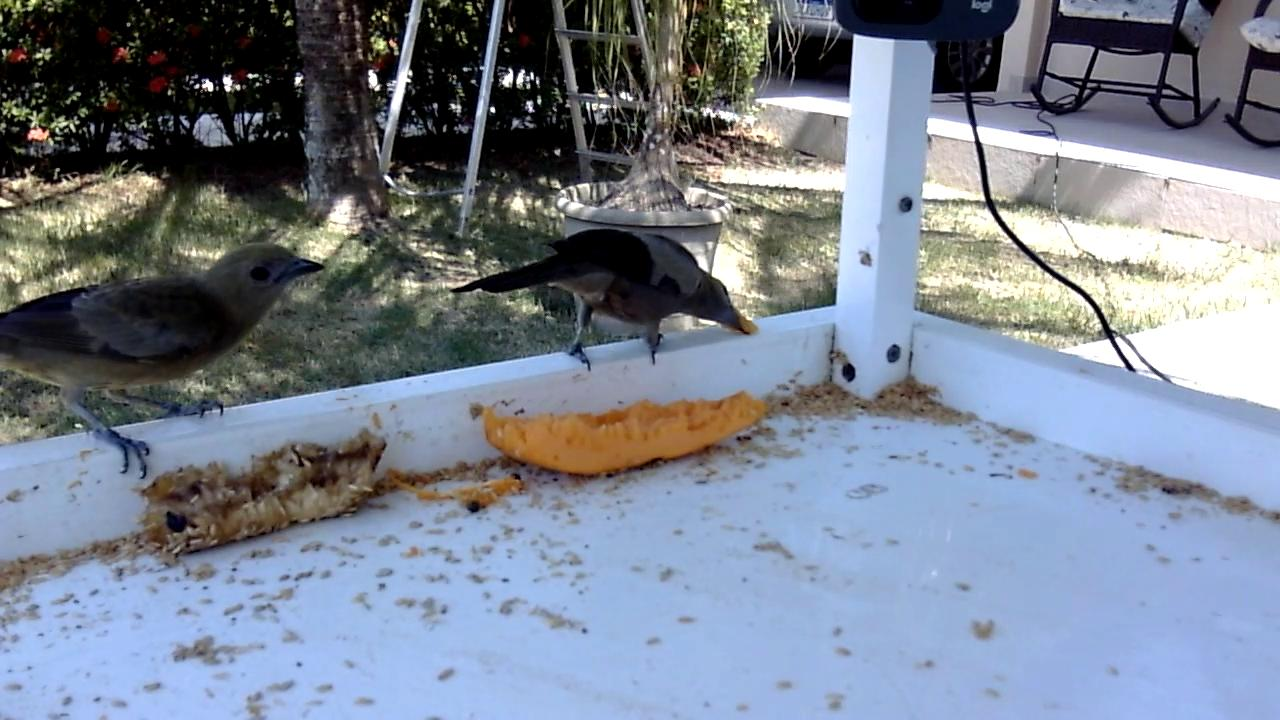sanhaco_do_coqueiro: (1, 240, 329, 484), (448, 225, 752, 378)
